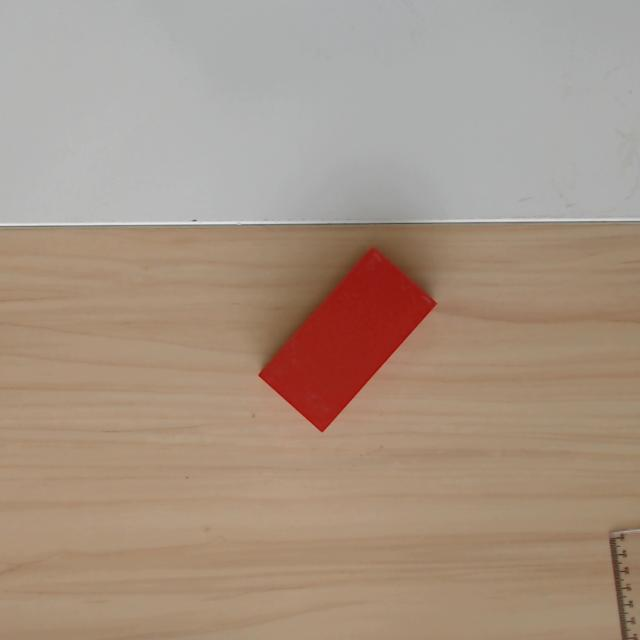Balok-Merah-1005025: (257, 244, 438, 434)
